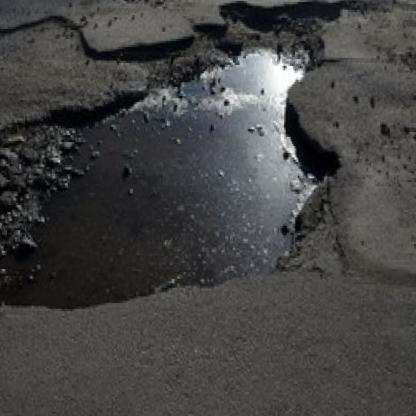pothole: (0, 0, 369, 318)
